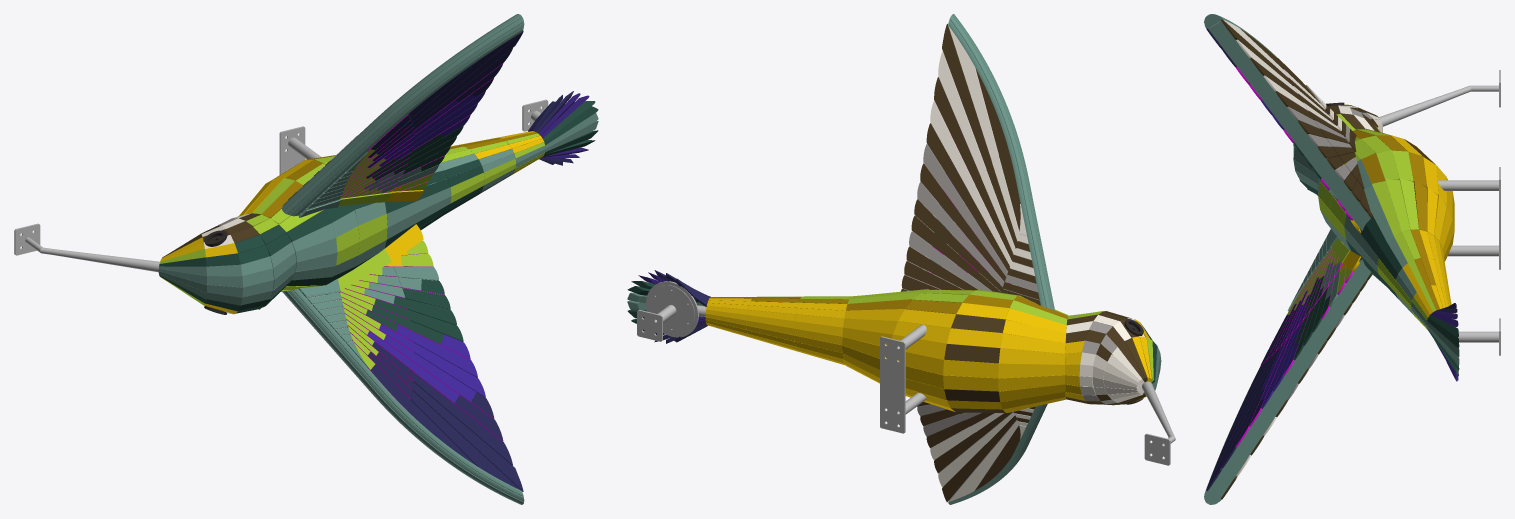
Rendered from beijaflor-complete-assy-inserido-d19b1b969e.glb.
3 views of the same model, side by side, from view 1: azimuth 30°, elevation 25°; view 2: azimuth 150°, elevation 25°; view 3: azimuth 270°, elevation 25° (orthographic).
Visible parts, largest first — view 1: C21.3(Mirror):1, C21.3:1, C21.2(Mirror):1, C21.2:1, C24.15:1, C24.16:1, C24.14:1, C21.1:1, C24.13:1, C24.12:1, Beak:1, C24.11:1 (+15 smaller); view 2: Center Base PL:1, C21.3(Mirror):1, C24.15_CPY_MIR(Mirror):1, C21.2(Mirror):1, Ring bracket IV:1, C24.16_CPY_MIR(Mirror):1, C24.14_CPY_MIR(Mirror):1, C21.1(Mirror):1, C24.13_CPY_MIR(Mirror):1, C24.12_CPY_MIR(Mirror):1, C24.11_CPY_MIR(Mirror):1, A5-11R(Mirror):1 (+31 smaller); view 3: Component1011(Mirror):1, Component1011:1, Beak:1, A8-5R(Mirror):1, ANSI 4 x 0.237 1711562616191:1, A8-6R(Mirror):1, A8-4R(Mirror):1, A8-7R(Mirror):1, ANSI 4 x 0.237 1711562616160:1, C24.15:1, A8-8R(Mirror):1, C24.14:1 (+16 smaller).
Boxes of the visible parts, <box> form: C21.3(Mirror):1: <box>282,14,524,214</box>; C21.3:1: <box>282,291,524,504</box>; C21.2(Mirror):1: <box>283,14,524,216</box>; C21.2:1: <box>290,289,524,500</box>; C24.15:1: <box>412,382,523,491</box>; C24.16:1: <box>411,391,521,490</box>; C24.14:1: <box>413,373,512,465</box>; C21.1:1: <box>294,289,523,495</box>; C24.13:1: <box>414,363,503,440</box>; C24.12:1: <box>414,353,494,418</box>; Beak:1: <box>51,249,159,272</box>; C24.11:1: <box>414,343,485,397</box>; Center Base PL:1: <box>880,336,905,433</box>; C21.3(Mirror):1: <box>951,14,1054,310</box>; C24.15_CPY_MIR(Mirror):1: <box>942,24,992,169</box>; C21.2(Mirror):1: <box>949,16,1049,308</box>; Ring bracket IV:1: <box>649,285,694,334</box>; C24.16_CPY_MIR(Mirror):1: <box>948,25,998,162</box>; C24.14_CPY_MIR(Mirror):1: <box>938,51,986,177</box>; C21.1(Mirror):1: <box>948,20,1044,306</box>; C24.13_CPY_MIR(Mirror):1: <box>934,77,981,185</box>; C24.12_CPY_MIR(Mirror):1: <box>930,101,975,194</box>; C24.11_CPY_MIR(Mirror):1: <box>926,123,970,203</box>; A5-11R(Mirror):1: <box>998,348,1065,364</box>; Component1011(Mirror):1: <box>1209,259,1371,497</box>; Component1011:1: <box>1208,21,1370,230</box>; Beak:1: <box>1379,89,1463,126</box>; A8-5R(Mirror):1: <box>1372,180,1401,235</box>; ANSI 4 x 0.237 1711562616191:1: <box>1437,180,1498,190</box>; A8-6R(Mirror):1: <box>1385,179,1410,231</box>; A8-4R(Mirror):1: <box>1364,185,1393,241</box>; A8-7R(Mirror):1: <box>1399,178,1418,229</box>; ANSI 4 x 0.237 1711562616160:1: <box>1448,245,1498,256</box>; C24.15:1: <box>1206,351,1276,490</box>; A8-8R(Mirror):1: <box>1413,181,1426,231</box>; C24.14:1: <box>1221,346,1281,468</box>.
Size of the model in its own units: 6.9 by 5.73 by 3.14.
